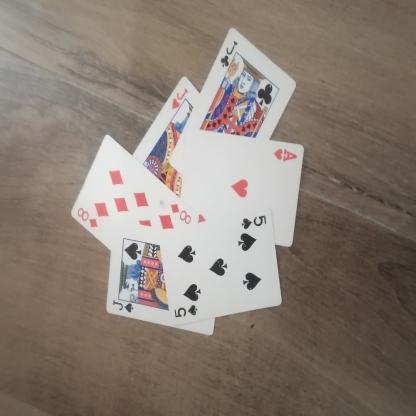5S: (236, 212, 273, 240)
8D: (79, 198, 101, 236)
AH: (262, 146, 308, 167)
JC: (219, 30, 238, 76)
JH: (170, 79, 196, 119)
JS: (112, 294, 138, 317)
